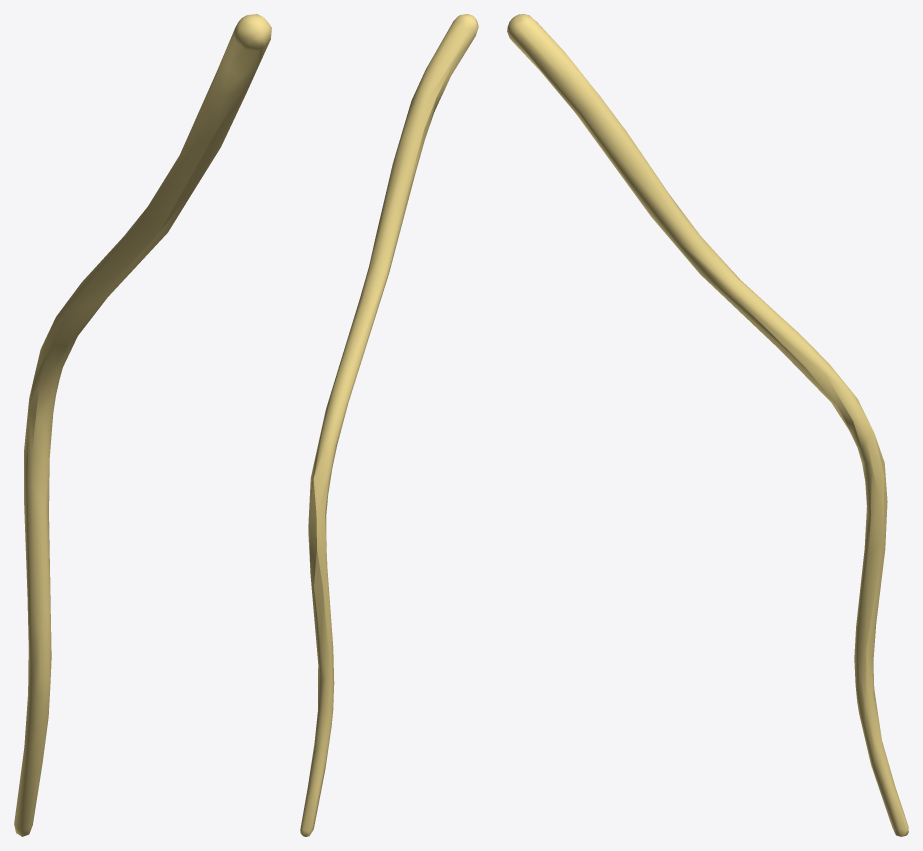
The model's file is fma52676_fj4028.glb.
The picture shows the model from 3 angles, left to right: view 1: azimuth 30°, elevation 25°; view 2: azimuth 150°, elevation 25°; view 3: azimuth 270°, elevation 25°; orthographic projection. The views are drawn at different scales.
Parts seen in each view (by area): view 1: FMA52676_FJ4028; view 2: FMA52676_FJ4028; view 3: FMA52676_FJ4028.
Part boxes in pixels (x1,y1,x2,y2): FMA52676_FJ4028: (14,14,271,836); FMA52676_FJ4028: (300,14,478,836); FMA52676_FJ4028: (507,14,908,836).
Bounding box in the file's own units: 0.000942 × 0.0163 × 0.00724.
